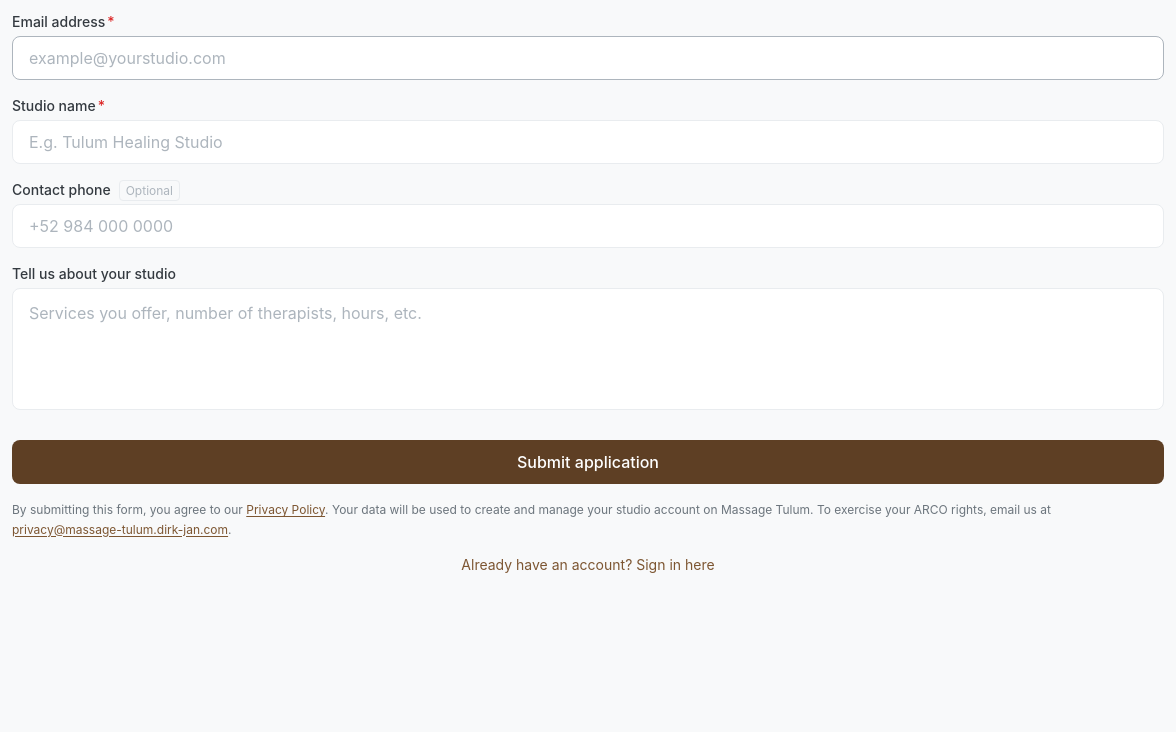
it: SignupForm › validation (fires on submit, not on blur) › shows emailInvalid for malformed email
In the field labelled "Email address*": (588, 58) [12,36,1164,80], type "notanemail"
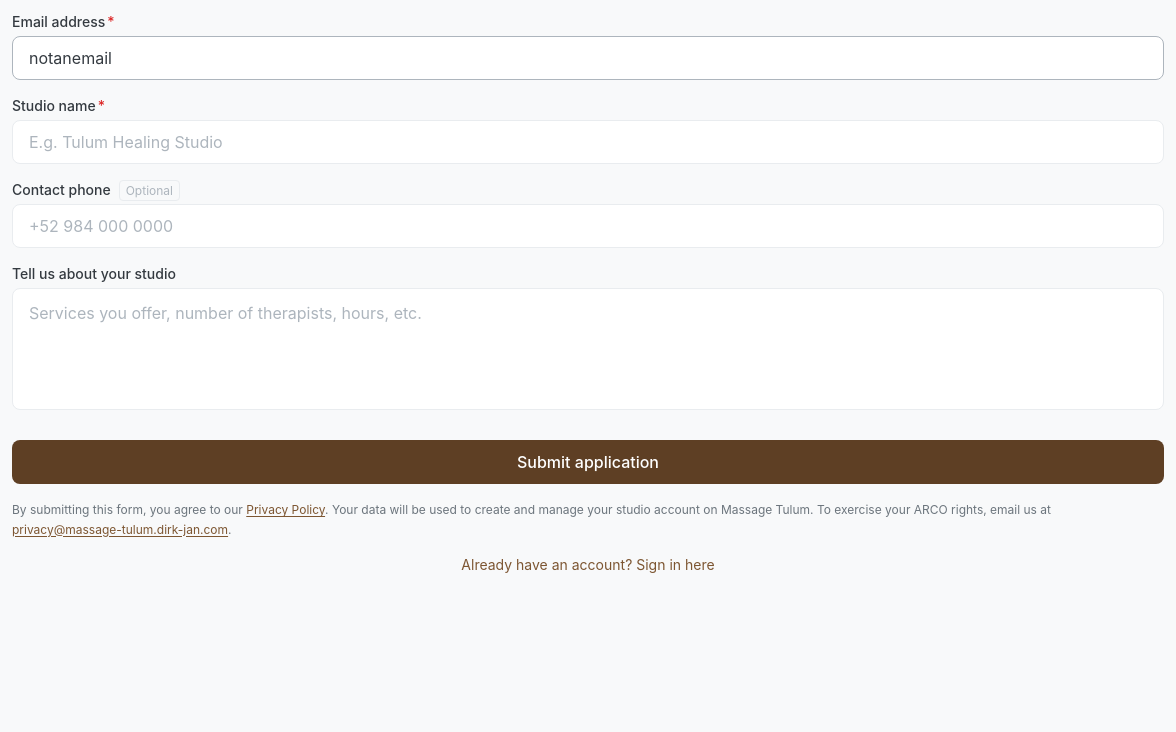
Click the button "Submit application": click(588, 462) [12,440,1164,484]
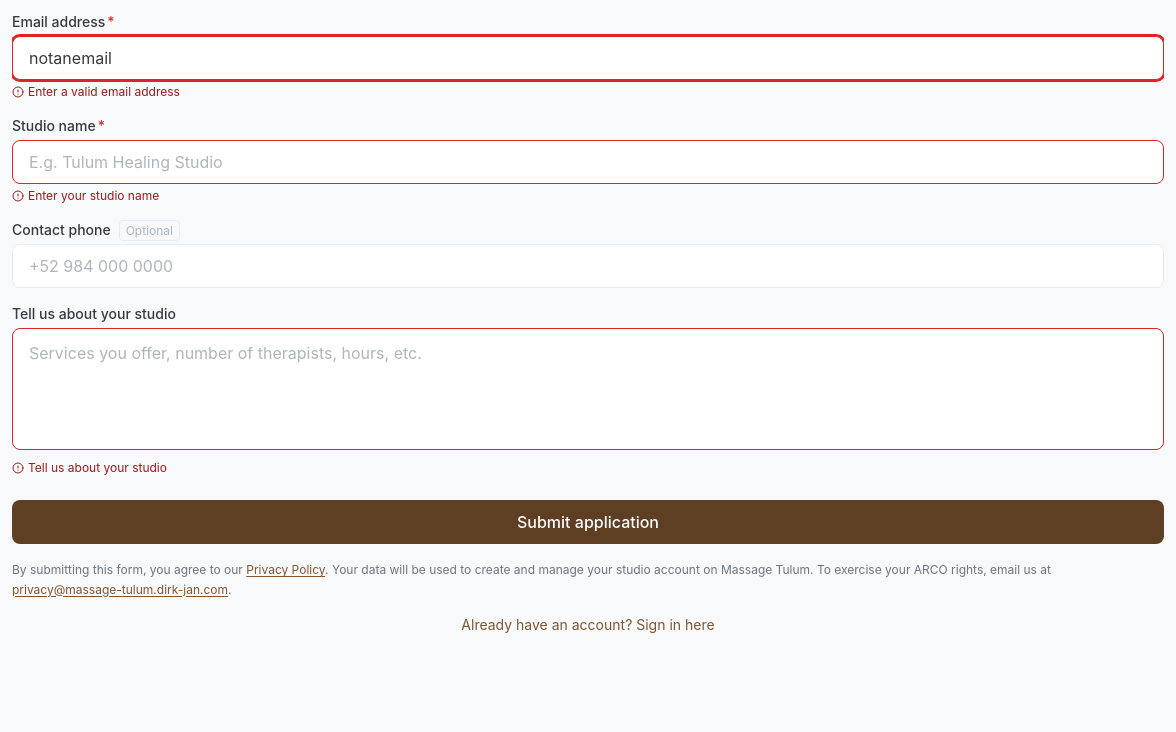
Expected: the text "Enter a valid email address" is shown, [12,84,180,99]
